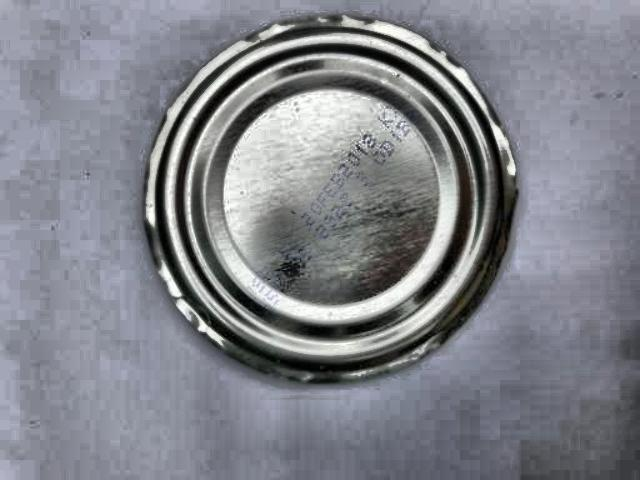Almennt: (96, 5, 556, 389)
